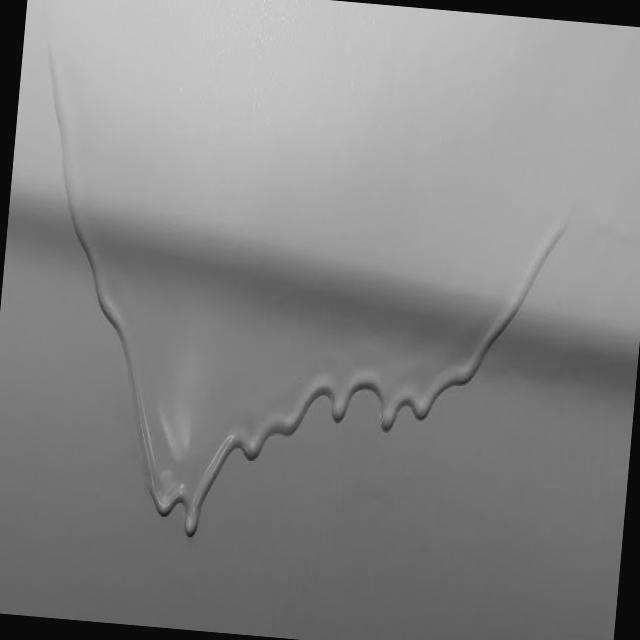paint drips: (2, 34, 240, 562), (171, 286, 466, 577), (420, 186, 584, 458)
